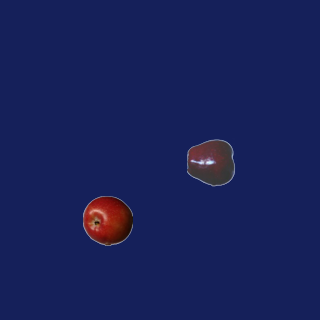Apple Braeburn: (82, 195, 132, 245)
Apple Red Delicious: (186, 137, 236, 187)
